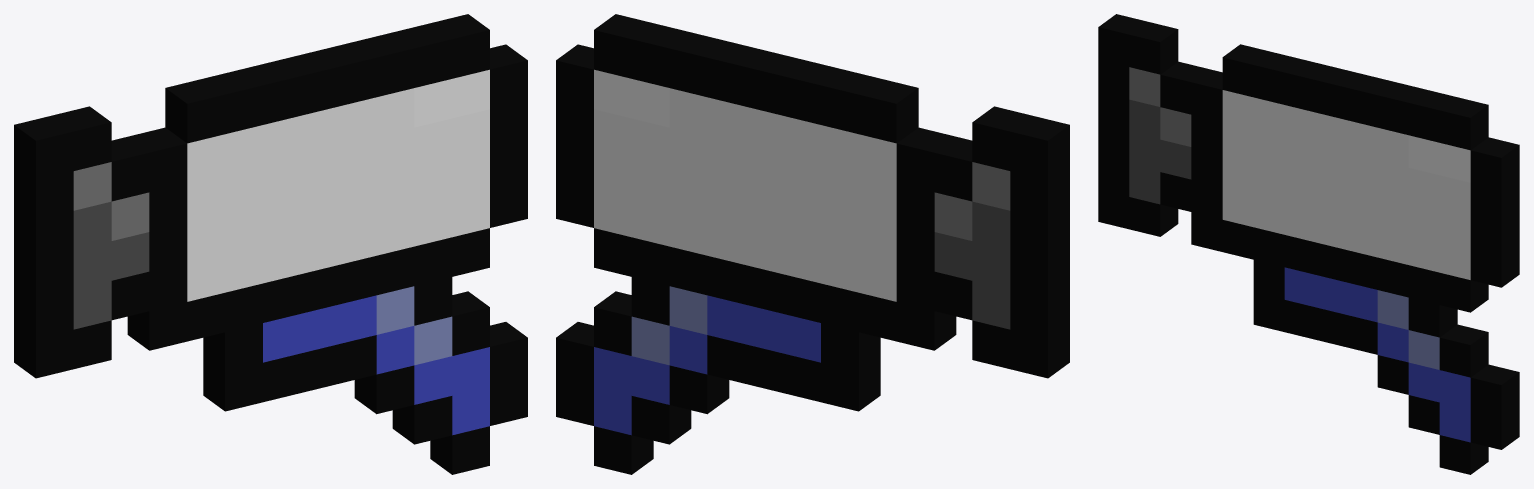
The model's file is White Paintball Gun.glb.
3 views of the same model, side by side, from view 1: azimuth 30°, elevation 25°; view 2: azimuth 150°, elevation 25°; view 3: azimuth 330°, elevation 25° (orthographic). The views are drawn at different scales.
Visible parts, largest first — view 1: generated(Clone); view 2: generated(Clone); view 3: generated(Clone).
Part boxes in pixels (x1,y1,x2,y2): generated(Clone): (14,14,527,474); generated(Clone): (556,14,1069,474); generated(Clone): (1098,14,1519,474).
Size of the model in its own units: 13 by 11 by 1.
Materials: 1 (1 with a texture image).
